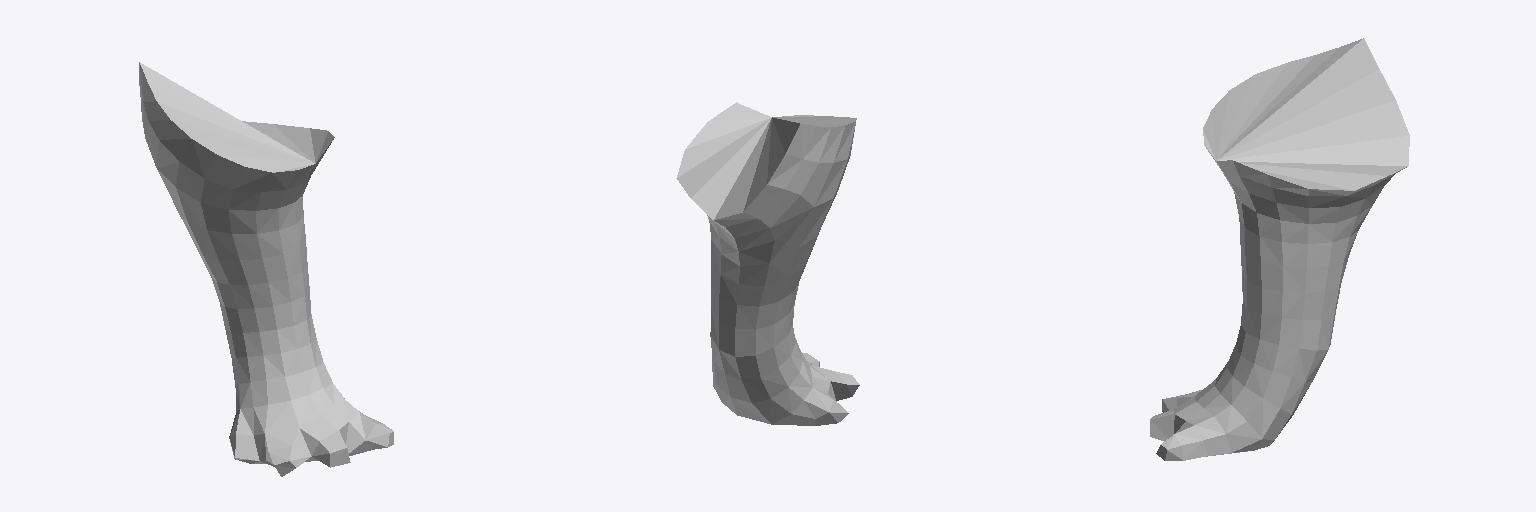
Rendered from piernaDD.obj.
3 views of the same model, side by side, from view 1: azimuth 30°, elevation 25°; view 2: azimuth 150°, elevation 25°; view 3: azimuth 270°, elevation 25° (orthographic).
Visible parts, largest first — view 1: polySurface4 polySurface2 capibara:pasted__Capybara_meshgroup20; view 2: polySurface4 polySurface2 capibara:pasted__Capybara_meshgroup20; view 3: polySurface4 polySurface2 capibara:pasted__Capybara_meshgroup20.
Part boxes in pixels (left/top/right/bottom): polySurface4 polySurface2 capibara:pasted__Capybara_meshgroup20: left=139, top=62, right=393, bottom=476; polySurface4 polySurface2 capibara:pasted__Capybara_meshgroup20: left=676, top=102, right=859, bottom=425; polySurface4 polySurface2 capibara:pasted__Capybara_meshgroup20: left=1150, top=38, right=1409, bottom=460.
Size of the model in its own units: 0.1384 by 0.2933 by 0.1904.